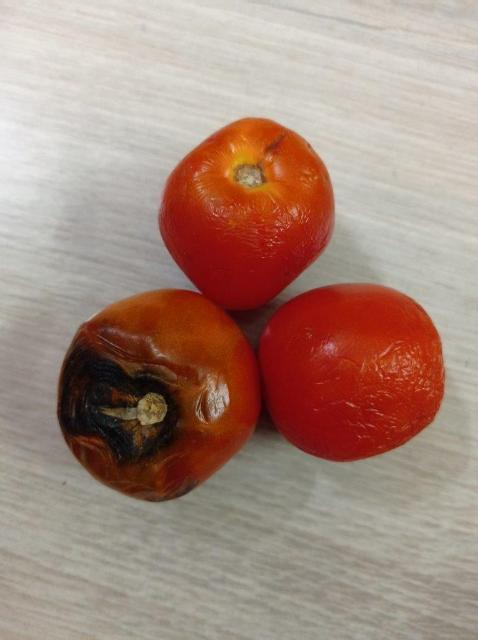defect: (56, 284, 267, 505), (156, 114, 342, 314), (258, 278, 445, 466)
